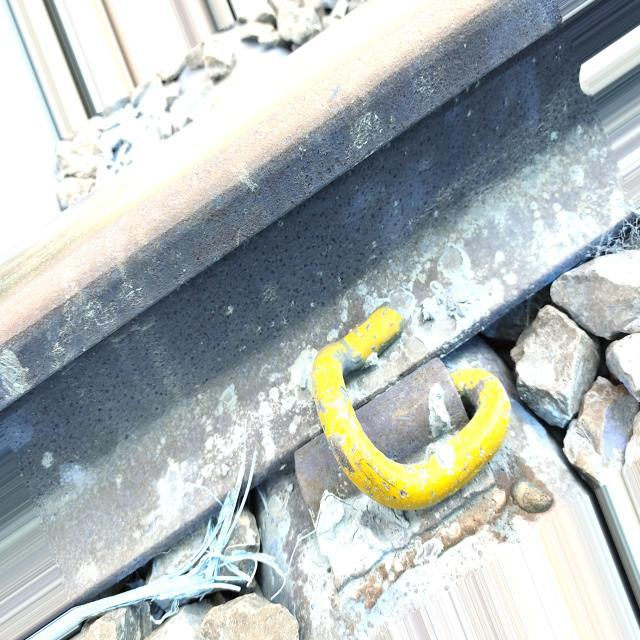Good Fasteners: (295, 306, 511, 588)
